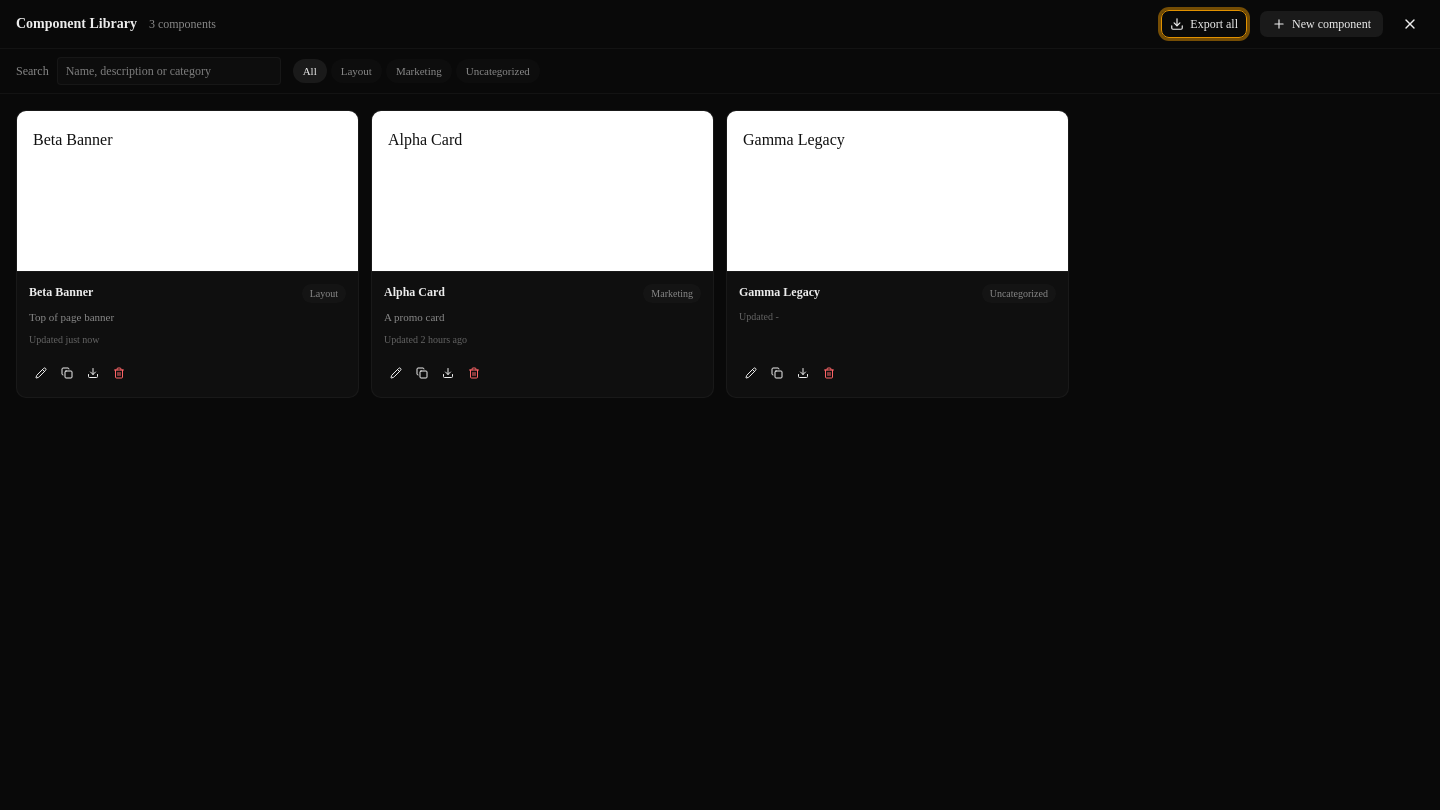
ComponentLibrary › warns when the component is used by sections on the current page
What coordinates should you click on to do the following:
click the button titled "Delete Alpha Card"
I would click on:
 (474, 372)
Its box is x1=462 y1=360 x2=486 y2=384.
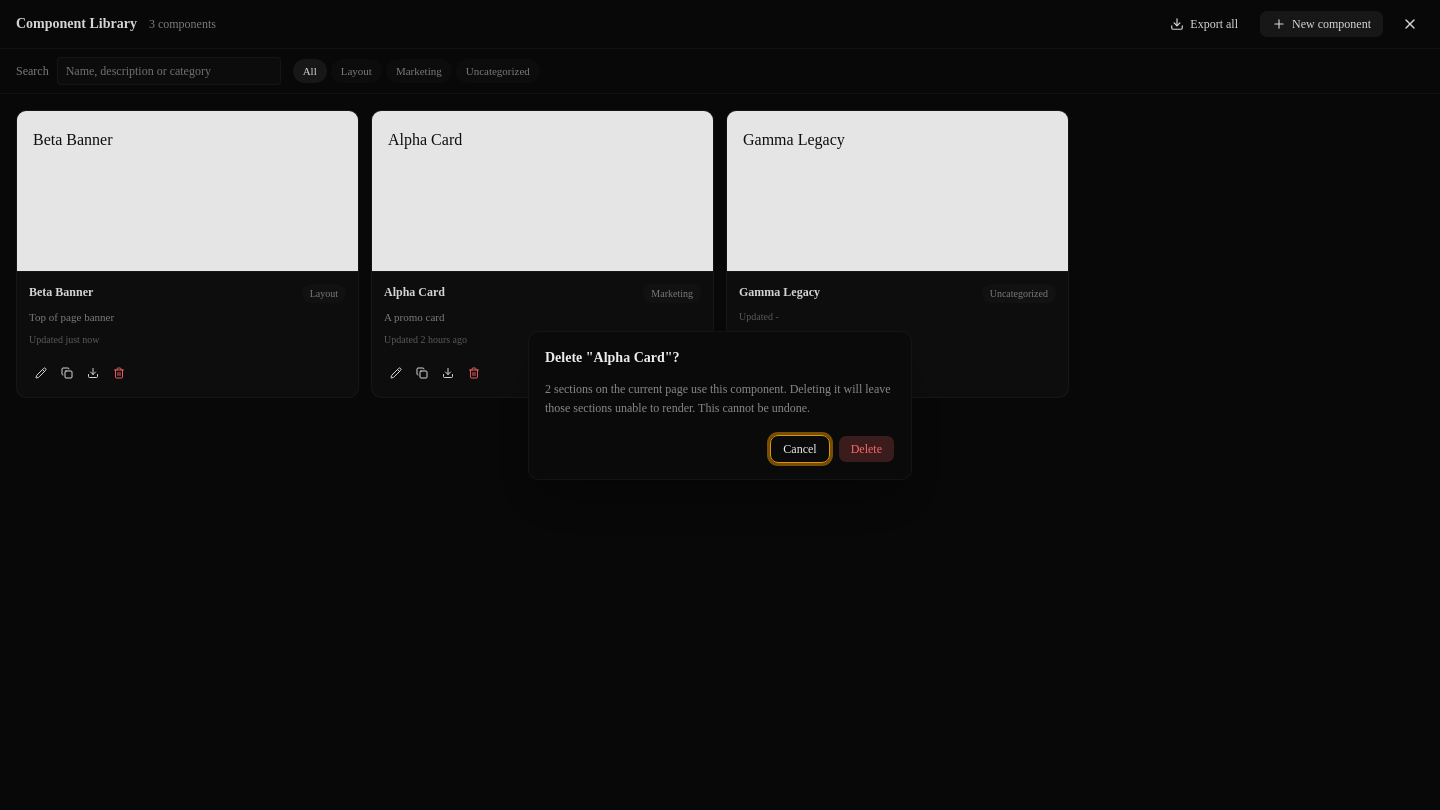
expect the text "2 sections on the current page" is shown: met, box x1=545 y1=380 x2=895 y2=418
